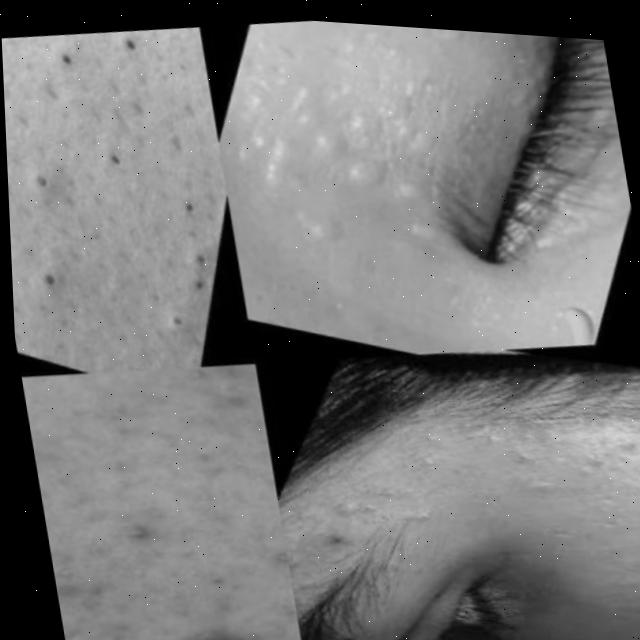Acne: (259, 17, 586, 339), (38, 408, 304, 640), (3, 68, 197, 356), (323, 516, 358, 566)
